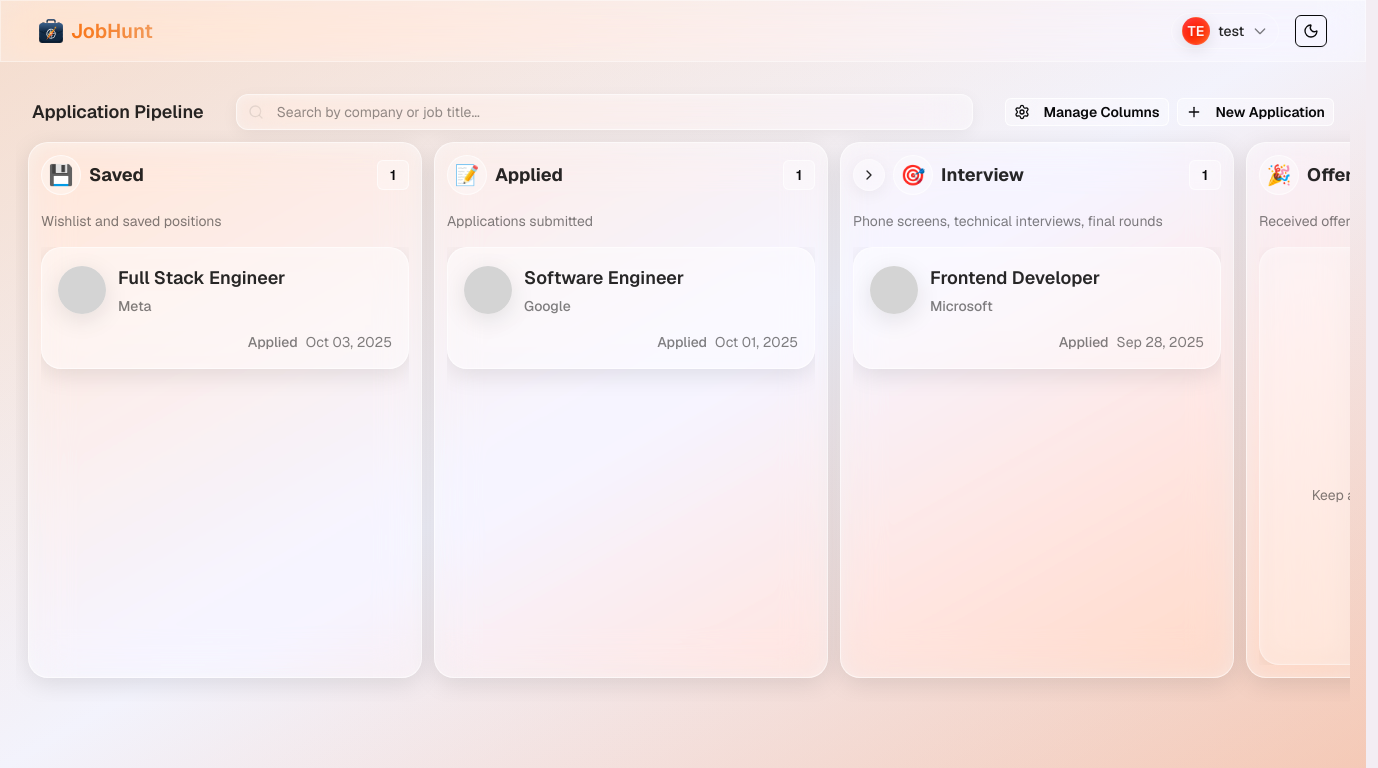
DashboardPage › Search and Filter › should filter applications by company name
The width and height of the screenshot is (1378, 768).
Expected: the text "Google" is shown, left=524, top=297, right=571, bottom=315
Type "google" into the field with placeholder "Search by company or job title..." at (604, 112), box left=236, top=94, right=972, bottom=130
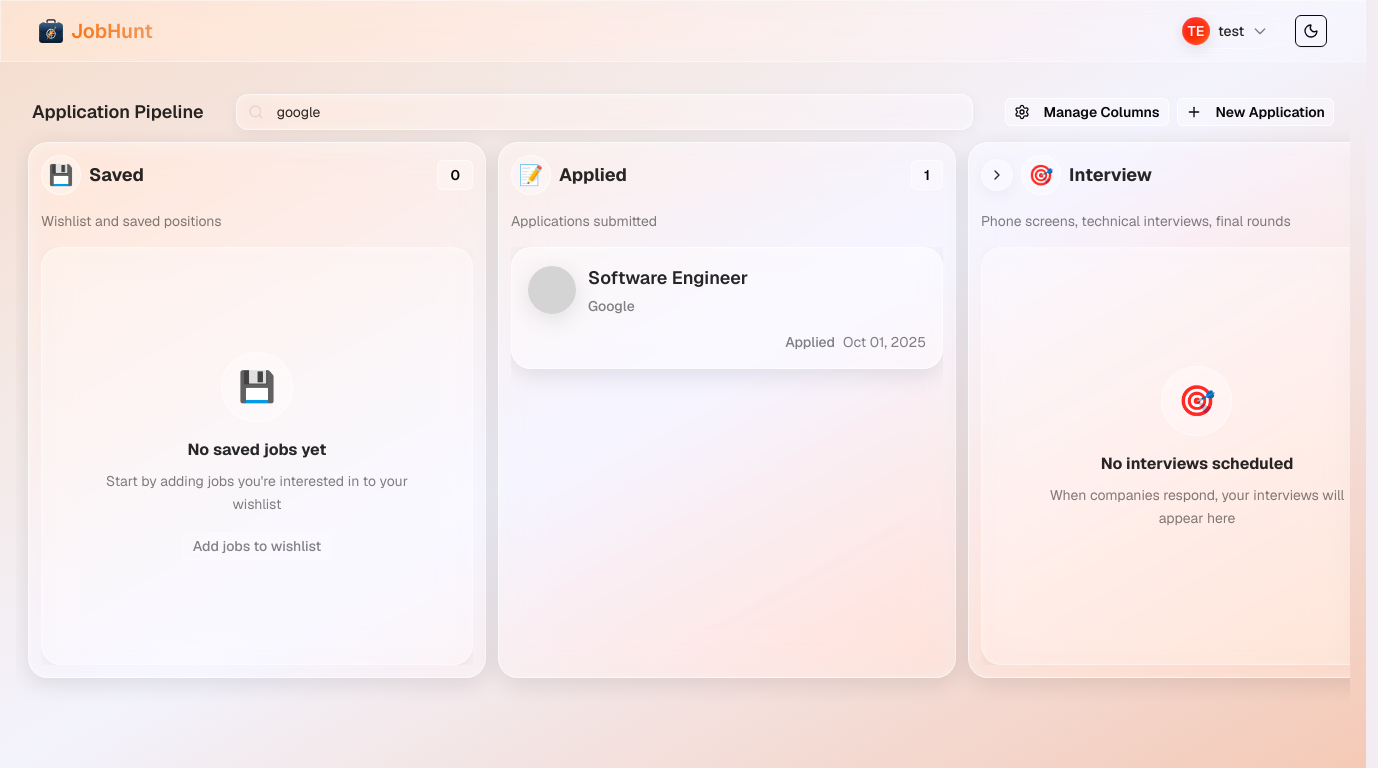
Expected: the text "Google" is shown, left=588, top=297, right=635, bottom=315
Expected: the button "Microsoft" is gone
Expected: the button "Meta" is gone
